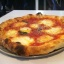pizza: (1, 13, 64, 53)
